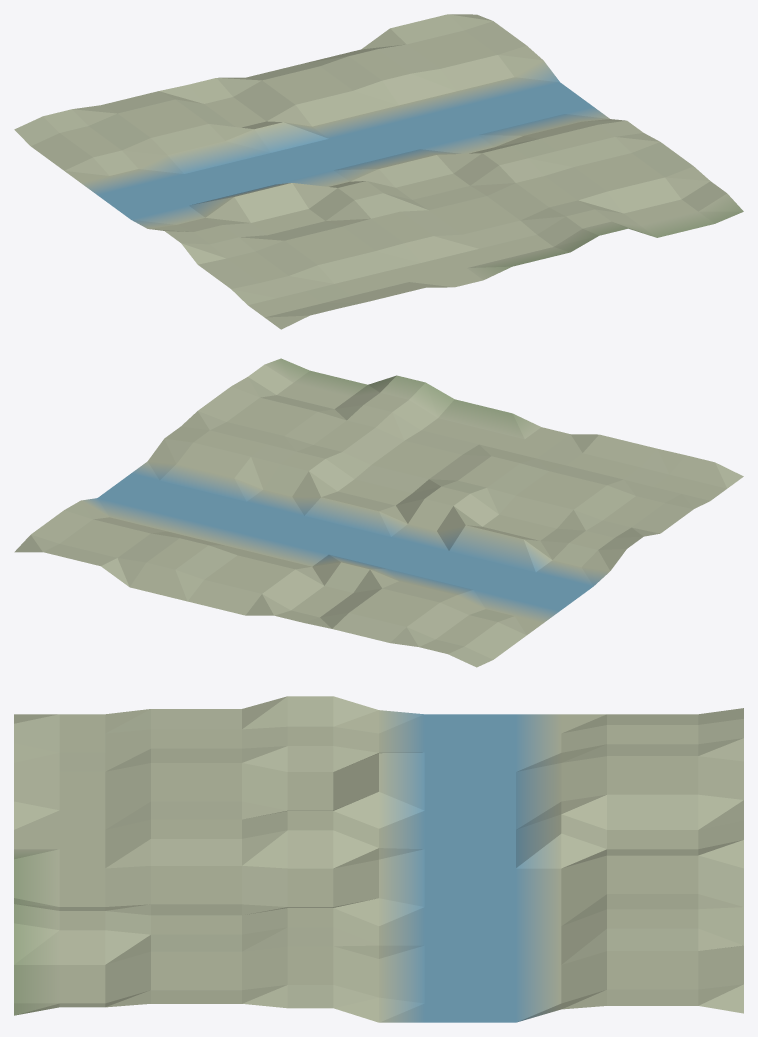
3 views of the same model, one above another, from view 1: azimuth 30°, elevation 25°; view 2: azimuth 150°, elevation 25°; view 3: azimuth 270°, elevation 25° (orthographic). The views are drawn at different scales.
Bounding box in the file's own units: 32 × 1.08 × 32.
